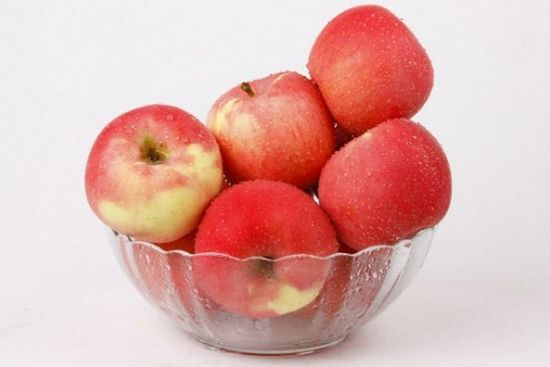fruit_apple: (190, 177, 336, 319), (80, 102, 222, 243), (315, 117, 457, 255), (204, 66, 340, 199), (306, 3, 435, 135)
